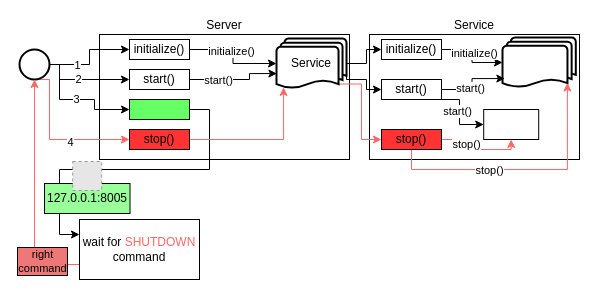
Some shapes in this 597 by 297 pixel diagram are drawn without their labels. Grey dashed boxes stand in for pictures. Here are the shapes that lost their labels. From the top down, the centre of each, then its label:
At (x=538, y=62): "Connector".
At (x=159, y=109): "await()".
At (x=511, y=124): "Container".
